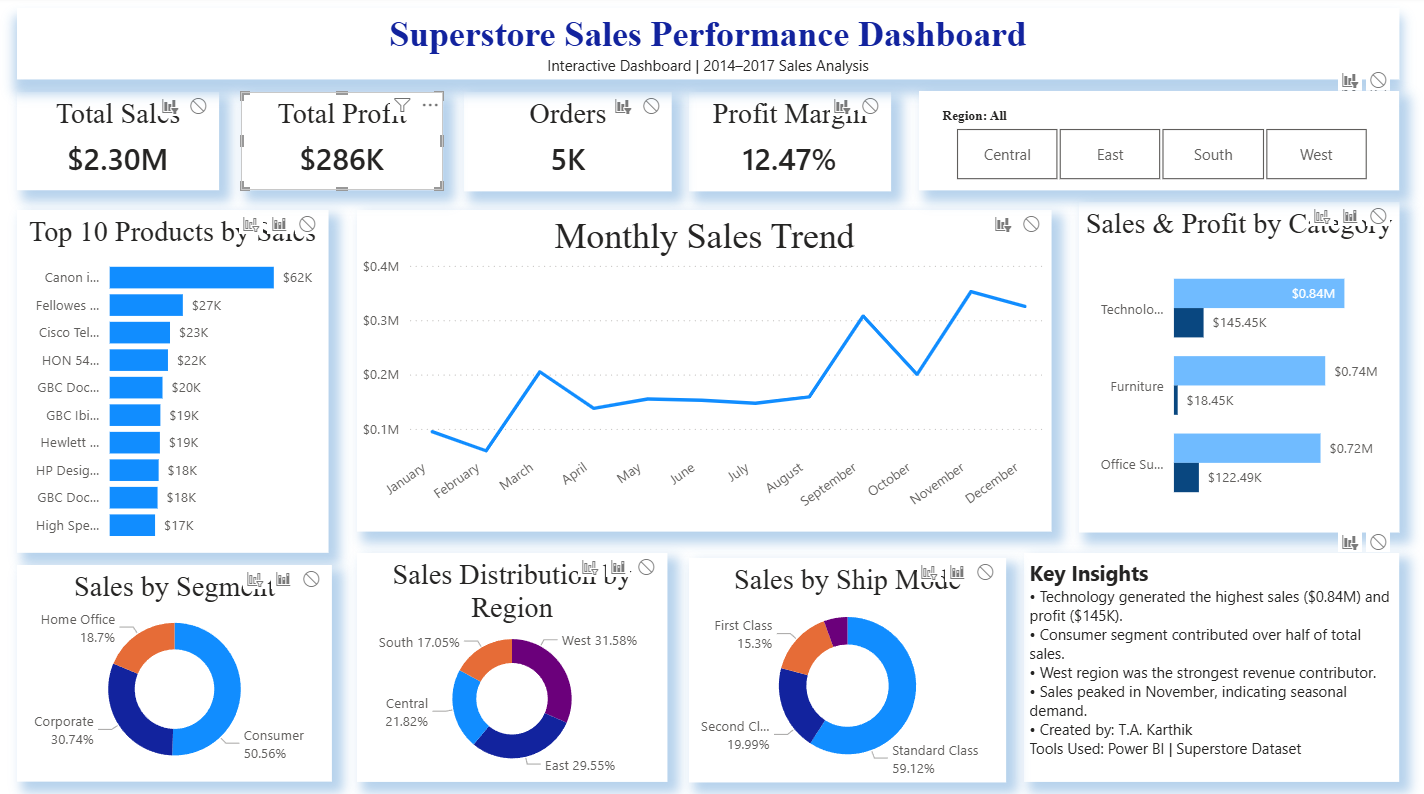

The dashboard page shown, as its layout file describes it:
{"tool":"powerbi","page":{"name":"Page 1","canvas":[1280,720],"ordinal":0},"visuals":[{"type":"cardVisual","title":"Total Sales","fields":{"Data":["Sum(orders.Sales)"]},"box":[17.9,85.1,180.9,87.8],"z":0},{"type":"cardVisual","title":"Profit Margin","fields":{"Data":["orders.Profit Margin %"]},"box":[619.7,85.1,180.9,88.7],"z":1000},{"type":"cardVisual","title":"Total Profit","fields":{"Data":["Sum(orders.Profit)"]},"box":[218.5,85.1,180.9,87.8],"z":2000},{"type":"cardVisual","title":"Orders","fields":{"Data":["orders.Total Orders"]},"box":[418.2,85.1,186.3,88.7],"z":3000},{"type":"lineChart","title":"Monthly Sales Trend","fields":{"Category":["orders.Order Date.Variation.Date Hierarchy.Month"],"Y":["Sum(orders.Sales)"]},"box":[322.4,190.7,622.4,288.4],"z":4000},{"type":"clusteredBarChart","title":"Sales & Profit  by  Category","fields":{"Y":["Sum(orders.Sales)","Sum(orders.Profit)"],"Category":["orders.Category"]},"box":[969,183.6,286.6,295.5],"z":5000},{"type":"textbox","box":[17.9,9.9,1237.6,63.6],"z":6000},{"type":"clusteredBarChart","title":"Top 10 Products by Sales","fields":{"Category":["orders.Product Name"],"Y":["Sum(orders.Sales)"]},"box":[17.9,190.7,278.5,307.2],"z":6001},{"type":"donutChart","title":"Sales by Segment","fields":{"Y":["Sum(orders.Sales)"],"Category":["orders.Segment"]},"box":[17.9,508.7,282.1,194.3],"z":6002},{"type":"donutChart","title":"Sales Distribution by Region","fields":{"Category":["orders.Region"],"Y":["Sum(orders.Sales)"]},"box":[322.4,497.9,277.6,205.1],"z":6003},{"type":"textbox","box":[919.7,497.9,335.8,205.1],"z":6004},{"type":"donutChart","title":"Sales by Ship Mode","fields":{"Y":["Sum(orders.Sales)"],"Category":["orders.Ship Mode"]},"box":[619.7,497.9,283.9,205.1],"z":6005},{"type":"slicer","title":"Region","fields":{"Values":["orders.Region"]},"box":[825.8,84.6,429.9,88.5],"z":6006}]}

Visuals, with their boxes in screenshot pixels (x1, y1, x2, y2), scaled from the page's 1280x720 canvas onto the 1424x794 screenshot:
"Total Sales" cardVisual: l=20, t=94, r=221, b=191
"Profit Margin" cardVisual: l=689, t=94, r=891, b=192
"Total Profit" cardVisual: l=243, t=94, r=444, b=191
"Orders" cardVisual: l=465, t=94, r=673, b=192
"Monthly Sales Trend" lineChart: l=359, t=210, r=1051, b=528
"Sales & Profit  by  Category" clusteredBarChart: l=1078, t=202, r=1397, b=528
textbox: l=20, t=11, r=1397, b=81
"Top 10 Products by Sales" clusteredBarChart: l=20, t=210, r=330, b=549
"Sales by Segment" donutChart: l=20, t=561, r=334, b=775
"Sales Distribution by Region" donutChart: l=359, t=549, r=668, b=775
textbox: l=1023, t=549, r=1397, b=775
"Sales by Ship Mode" donutChart: l=689, t=549, r=1005, b=775
"Region" slicer: l=919, t=93, r=1397, b=191
